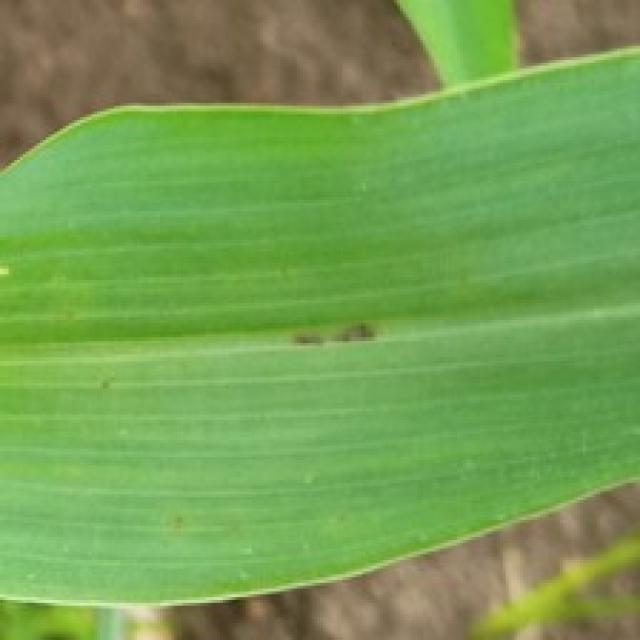Corn: (0, 11, 637, 612)
